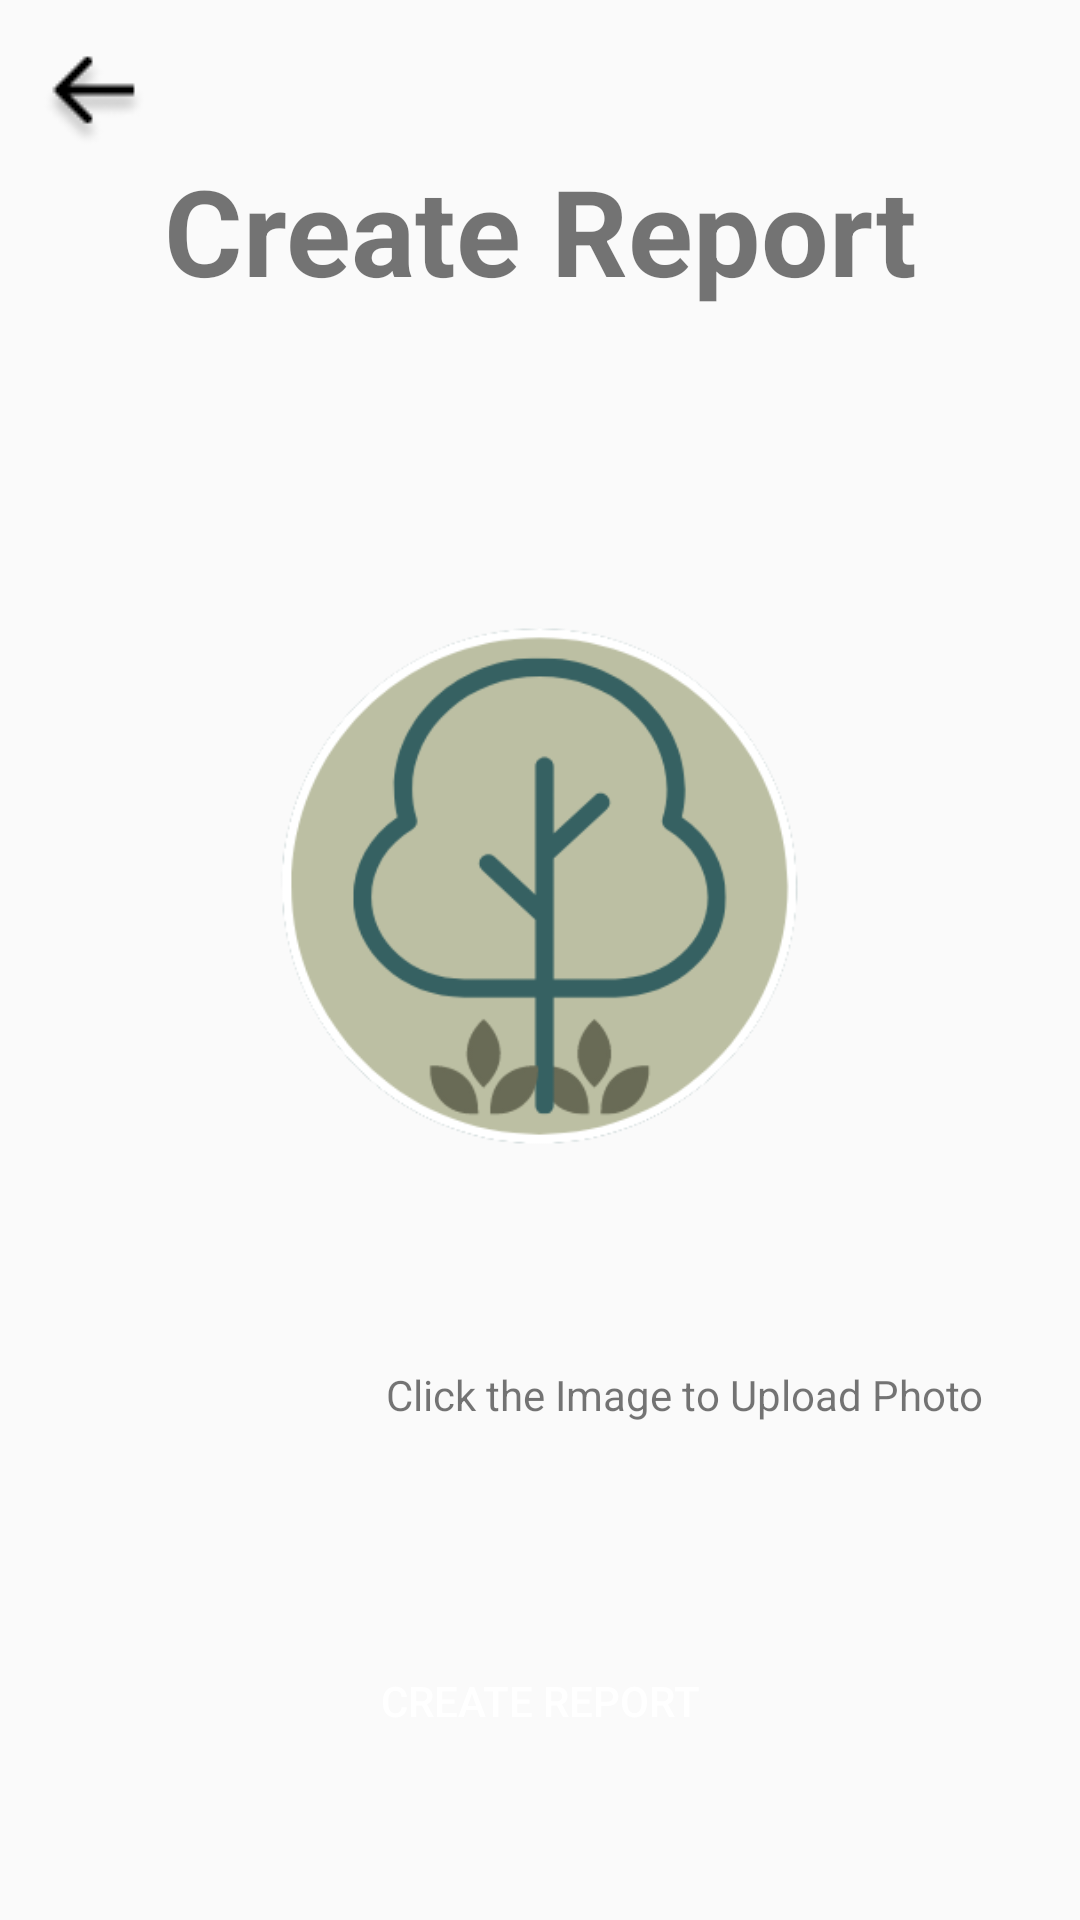

Icons on this 1080 × 1920 Android screen, each with its box as {"x1": x1, "y1": y1, "x2": x2, "y2": y2}:
arrow: {"x1": 52, "y1": 56, "x2": 135, "y2": 133}
